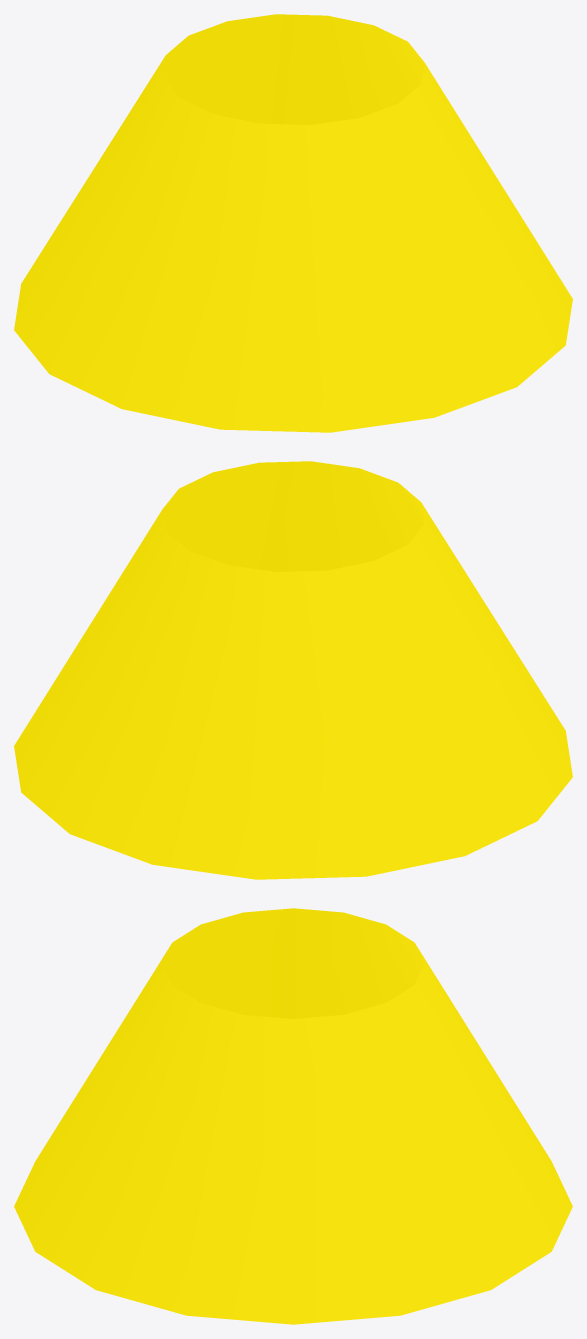
The model's file is thruster_short_model.fbx.
3 views of the same model, one above another, from view 1: azimuth 30°, elevation 25°; view 2: azimuth 150°, elevation 25°; view 3: azimuth 270°, elevation 25° (orthographic).
Visible parts, largest first — view 1: thruster.001; view 2: thruster.001; view 3: thruster.001.
Part boxes in pixels (left/top/right/bottom): thruster.001: left=14, top=14, right=572, bottom=432; thruster.001: left=14, top=461, right=572, bottom=879; thruster.001: left=14, top=908, right=572, bottom=1324.
Size of the model in its own units: 185 by 88.88 by 185.
